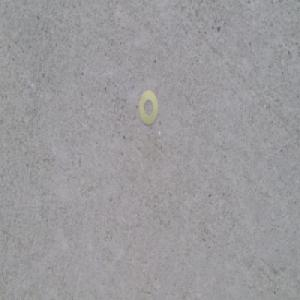Washer: (137, 89, 158, 127)
